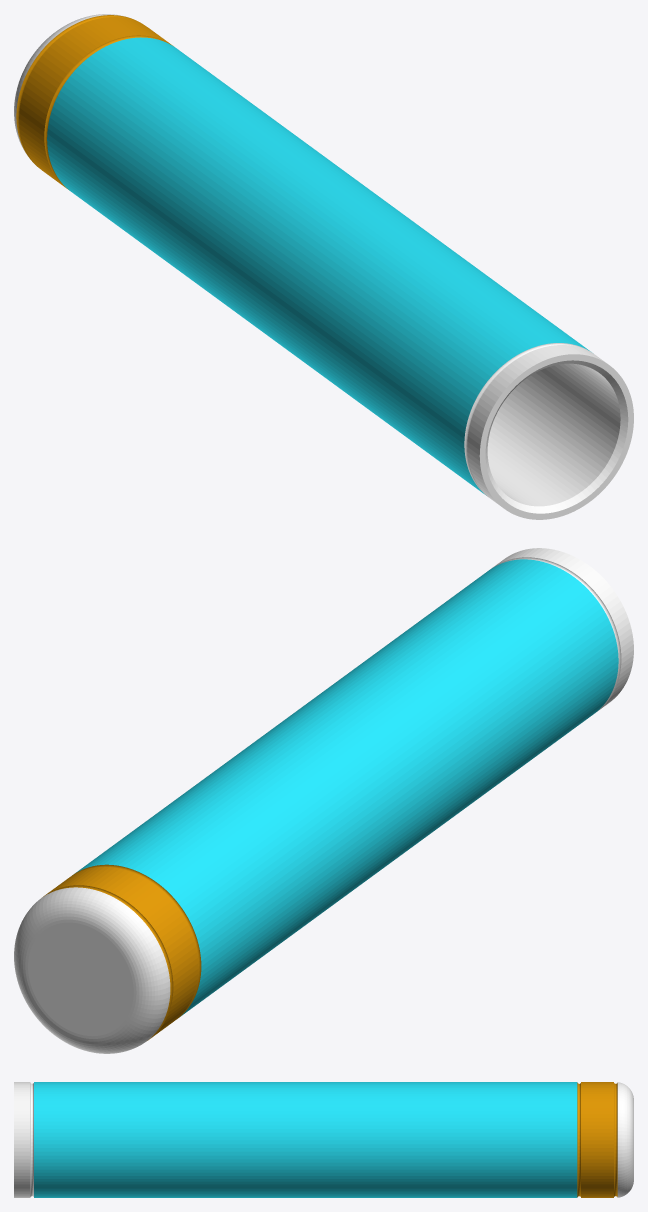
Rendered from Handle.fbx.
3 renders of one model, top to bottom at view 1: azimuth 30°, elevation 25°; view 2: azimuth 150°, elevation 25°; view 3: azimuth 270°, elevation 25°, orthographic. The views are drawn at different scales.
Visible parts, largest first — view 1: Handle; view 2: Handle; view 3: Handle.
Part boxes in pixels (bbox=[...]): Handle: bbox=[14, 14, 633, 519]; Handle: bbox=[14, 548, 633, 1053]; Handle: bbox=[14, 1082, 633, 1197].
Size of the model in its own units: 3.18 by 3.18 by 17.
